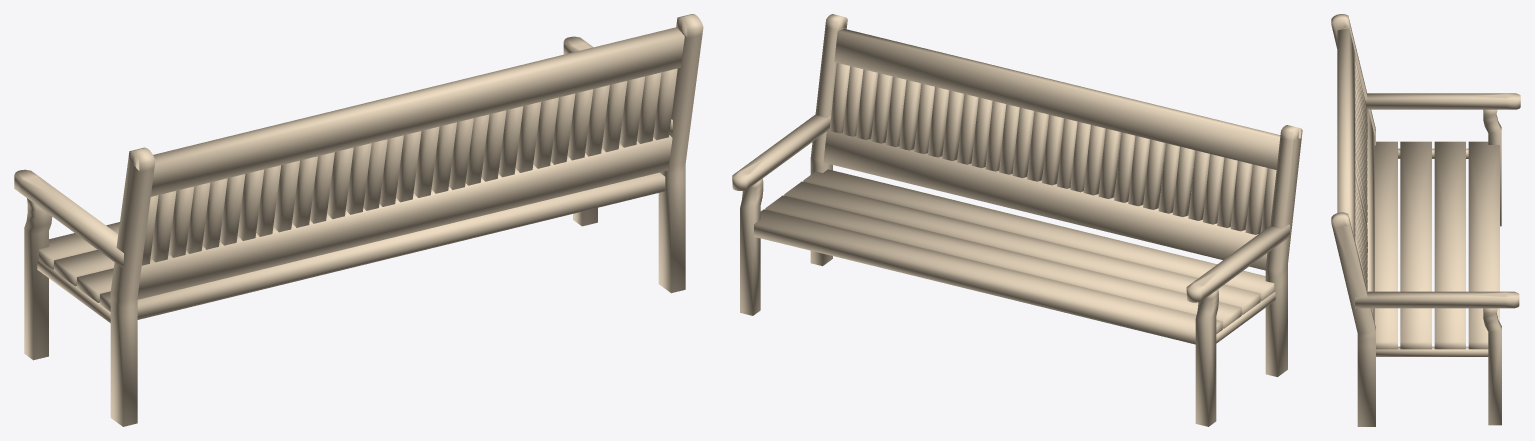
The model's file is bench.glb.
3 renders of one model, left to right at view 1: azimuth 30°, elevation 25°; view 2: azimuth 150°, elevation 25°; view 3: azimuth 270°, elevation 25°, orthographic. The views are drawn at different scales.
Parts seen in each view (by area): view 1: bench; view 2: bench; view 3: bench.
Boxes of the visible parts, <box> form: bench: <box>14,14,703,426</box>; bench: <box>732,14,1302,426</box>; bench: <box>1331,14,1520,426</box>.
Size of the model in its own units: 2.1 by 1 by 0.8215.
